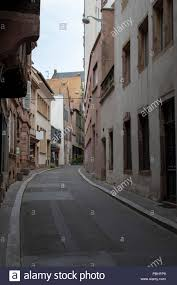strada: (2, 164, 172, 266)
